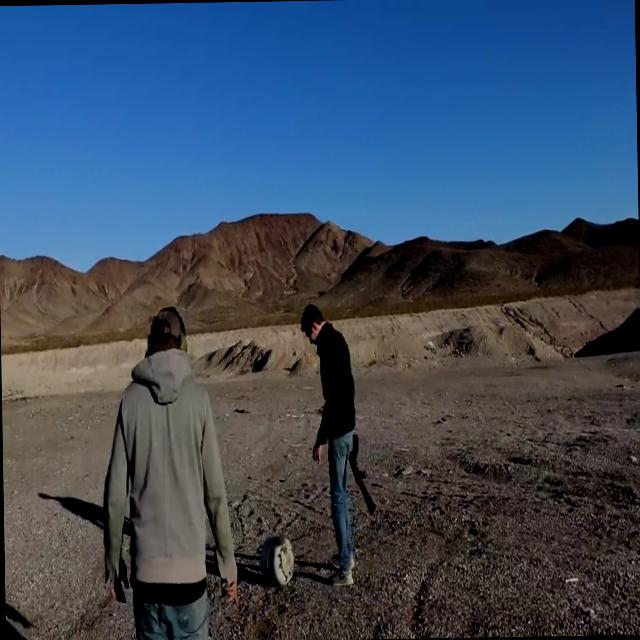long weapon: (342, 431, 380, 518)
